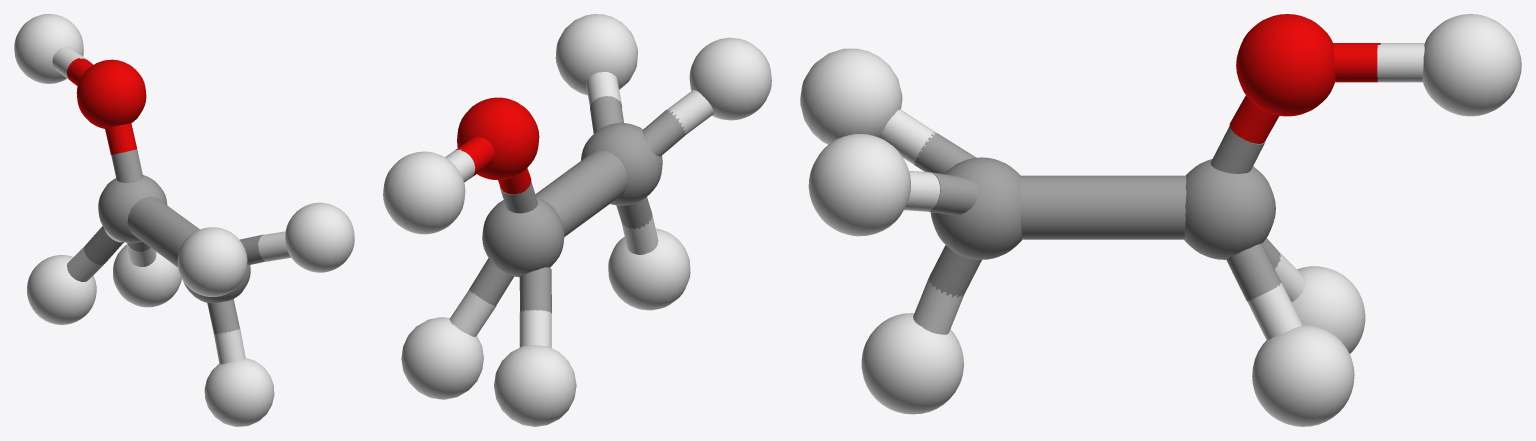
Rendered from alcohol.fbx.
3 views of the same model, side by side, from view 1: azimuth 30°, elevation 25°; view 2: azimuth 150°, elevation 25°; view 3: azimuth 270°, elevation 25° (orthographic). The views are drawn at different scales.
Visible parts, largest first — view 1: polySurface54; view 2: polySurface54; view 3: polySurface54.
Boxes of the visible parts, x1,y1,x2,y2 form: polySurface54: (14,14,354,426); polySurface54: (383,14,771,426); polySurface54: (800,14,1521,426).
Bounding box in the file's own units: 14.17 × 21.21 × 35.44.
